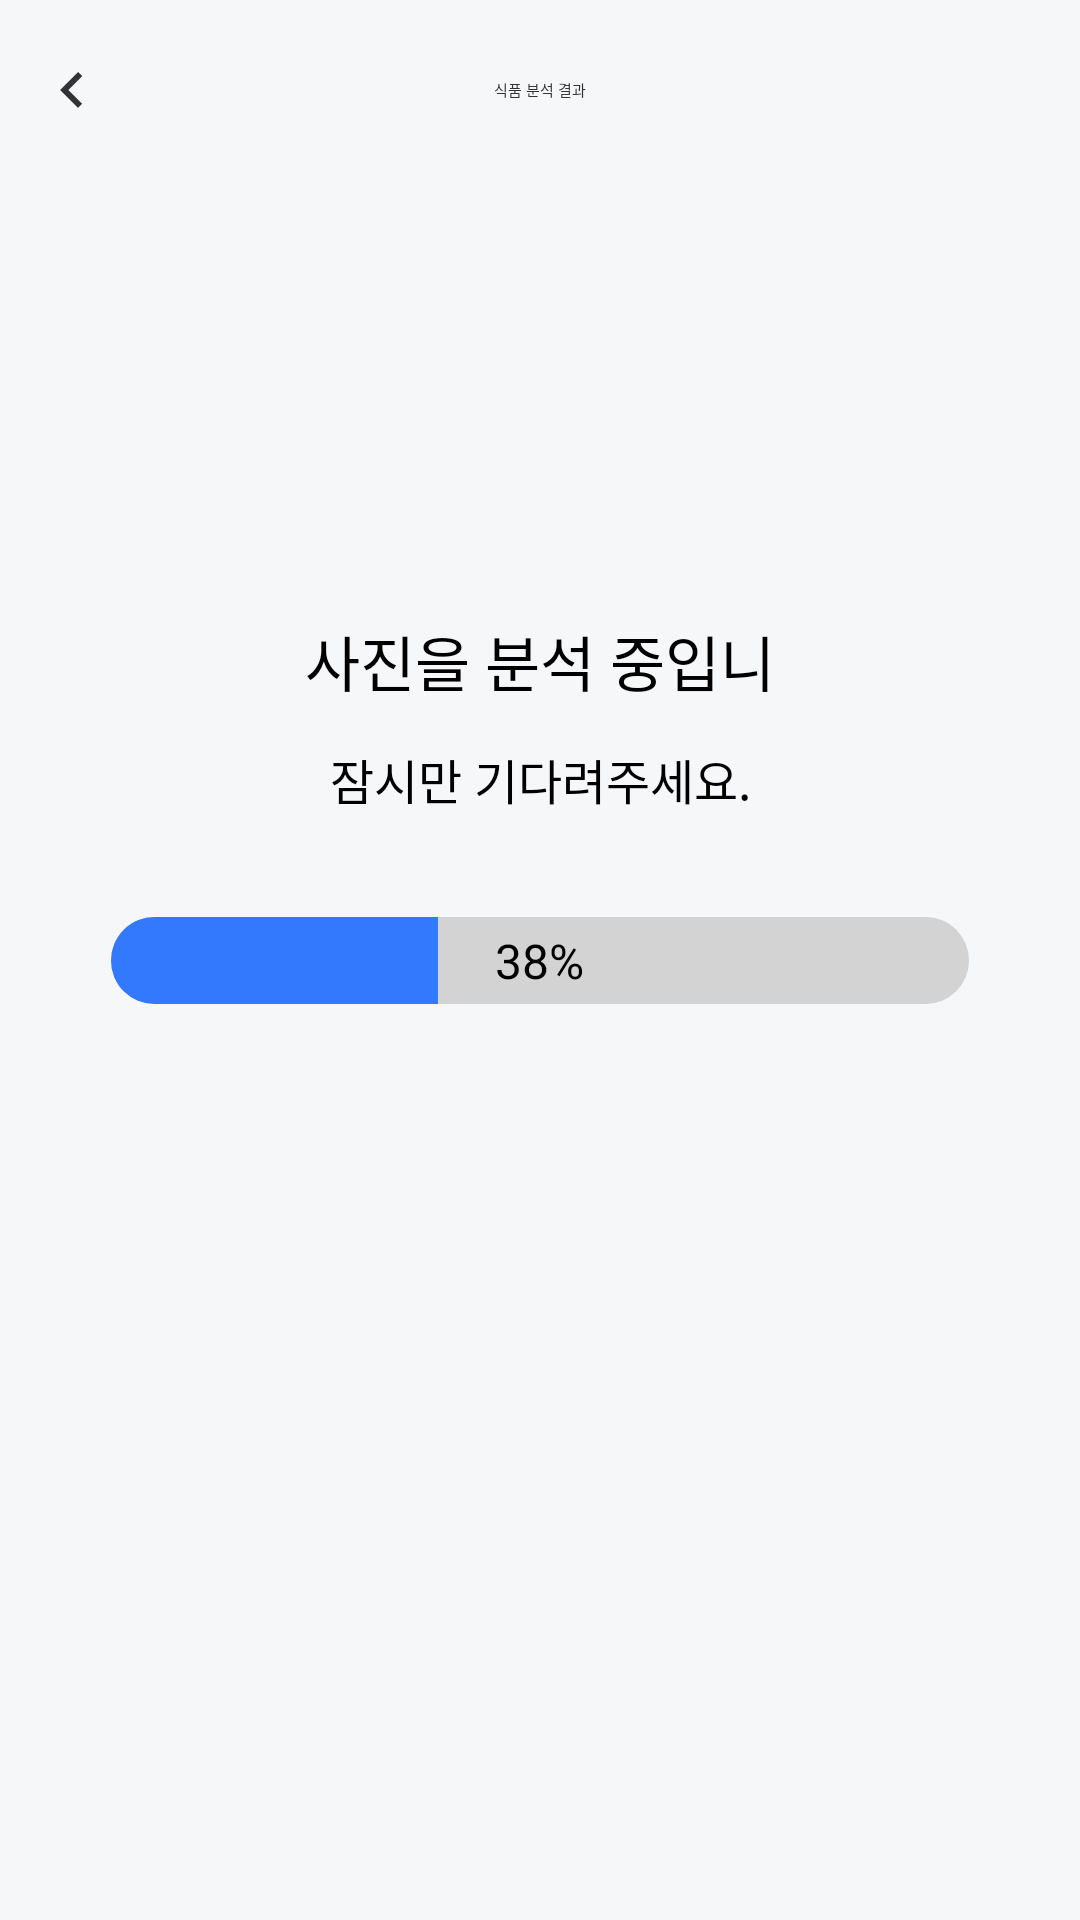

Icons on this 1080×1920 Android screen, each with the point to tap as [x,y]:
뒤로가기: [71,90]
